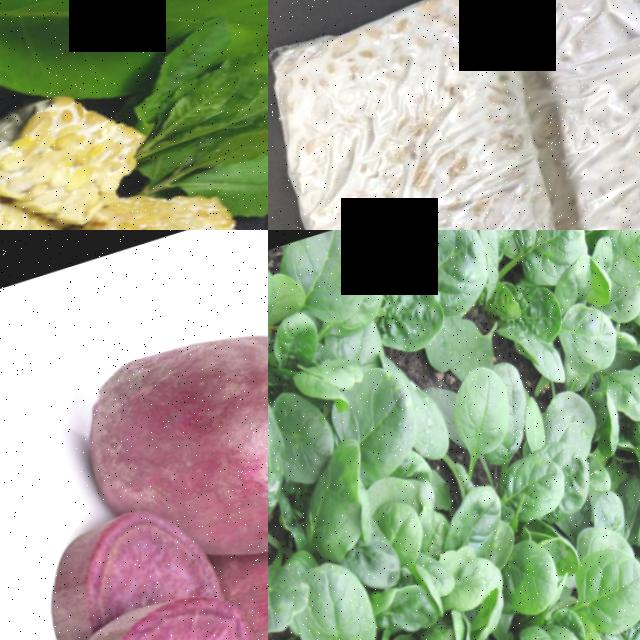spinach: (288, 230, 390, 330), (344, 364, 431, 480), (440, 359, 525, 463), (296, 548, 387, 640), (268, 380, 345, 487), (413, 230, 500, 323), (485, 230, 597, 295), (569, 538, 640, 640), (372, 269, 451, 360), (494, 446, 577, 532), (499, 533, 569, 621)
sweet potato: (64, 277, 268, 531), (32, 577, 268, 640)
tempeh: (268, 0, 607, 230), (505, 0, 640, 230), (63, 175, 258, 230)
tofu: (0, 76, 151, 230)
